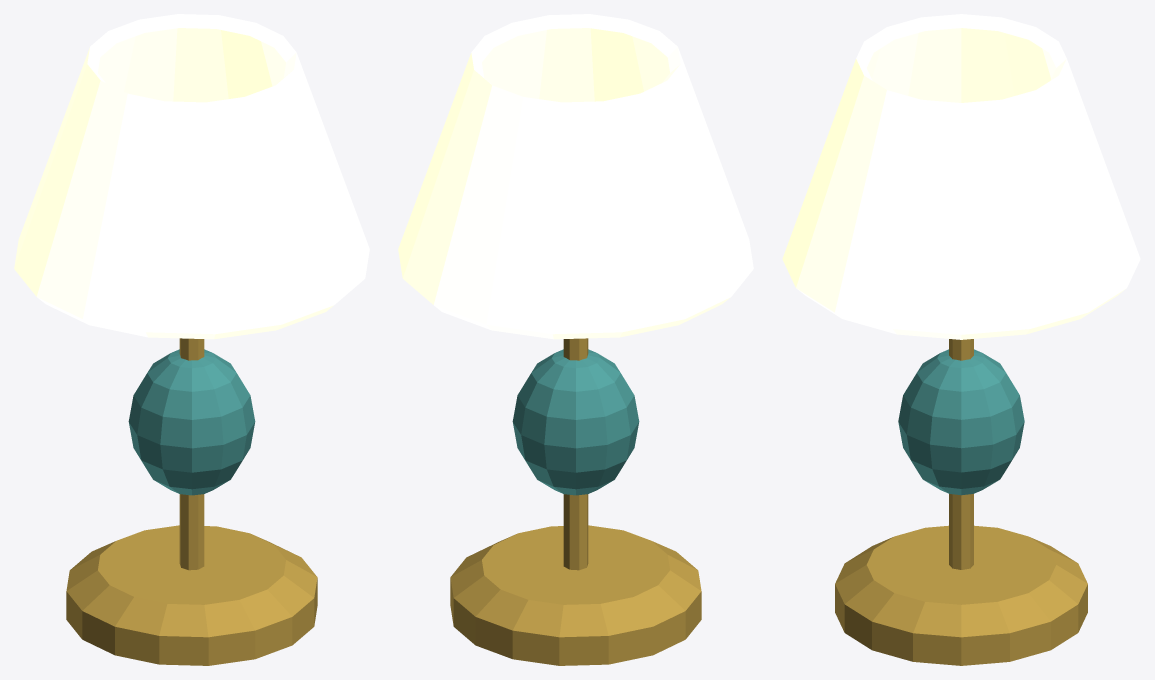
Rendered from home_lamp_v01.glb.
3 views of the same model, side by side, from view 1: azimuth 30°, elevation 25°; view 2: azimuth 150°, elevation 25°; view 3: azimuth 270°, elevation 25° (orthographic).
Parts seen in each view (by area): view 1: lamp; view 2: lamp; view 3: lamp.
Part boxes in pixels (x1,y1,x2,y2): lamp: [14, 14, 369, 665]; lamp: [398, 14, 753, 665]; lamp: [782, 14, 1140, 665].
Bounding box in the file's own units: 0.34 × 0.58 × 0.34.
